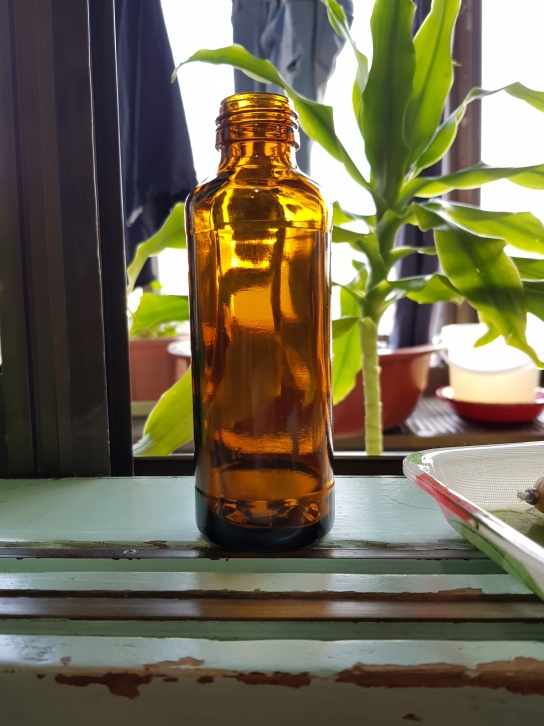Glass: (185, 92, 337, 556)
